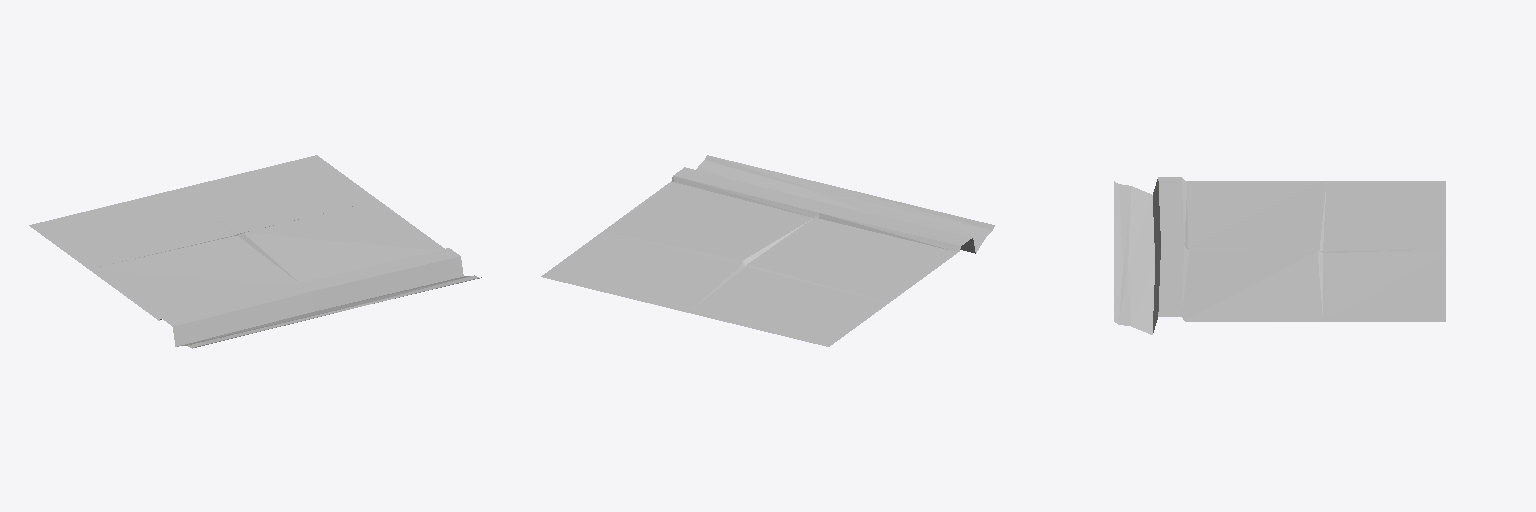
The model's file is sidewalk_straight.obj.
3 views of the same model, side by side, from view 1: azimuth 30°, elevation 25°; view 2: azimuth 150°, elevation 25°; view 3: azimuth 270°, elevation 25° (orthographic).
Visible parts, largest first — view 1: SM_Env_Sidewalk_Straight_01_Mesh.018; view 2: SM_Env_Sidewalk_Straight_01_Mesh.018; view 3: SM_Env_Sidewalk_Straight_01_Mesh.018.
Part boxes in pixels (x1,y1,x2,y2): SM_Env_Sidewalk_Straight_01_Mesh.018: (29,155,481,348); SM_Env_Sidewalk_Straight_01_Mesh.018: (541,155,994,346); SM_Env_Sidewalk_Straight_01_Mesh.018: (1114,177,1445,334).
Size of the model in its own units: 5 by 0.3 by 5.